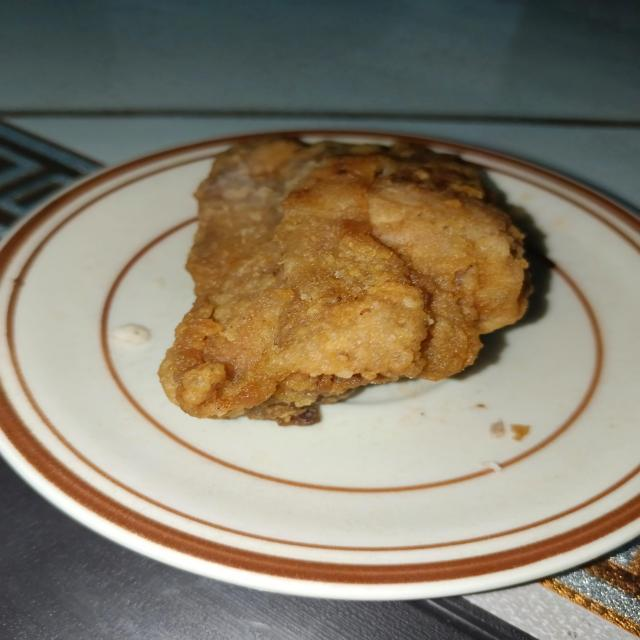Chicken -Fried Chicken-: (158, 82, 518, 429)
